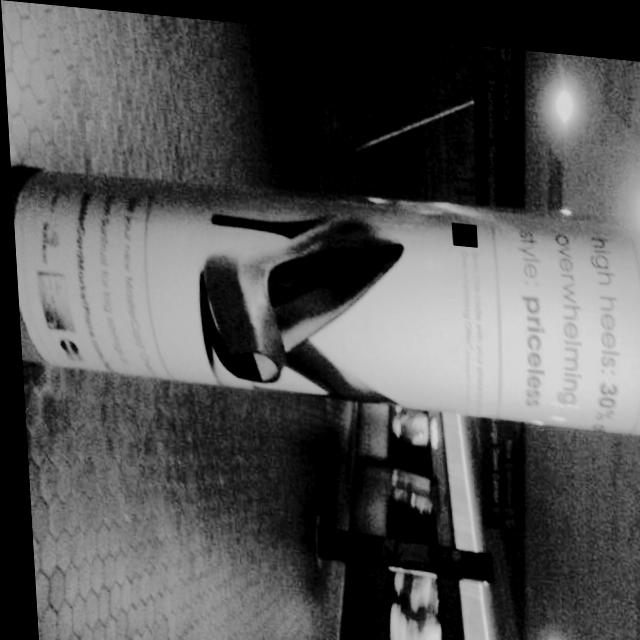qr_code: (448, 214, 474, 238)
